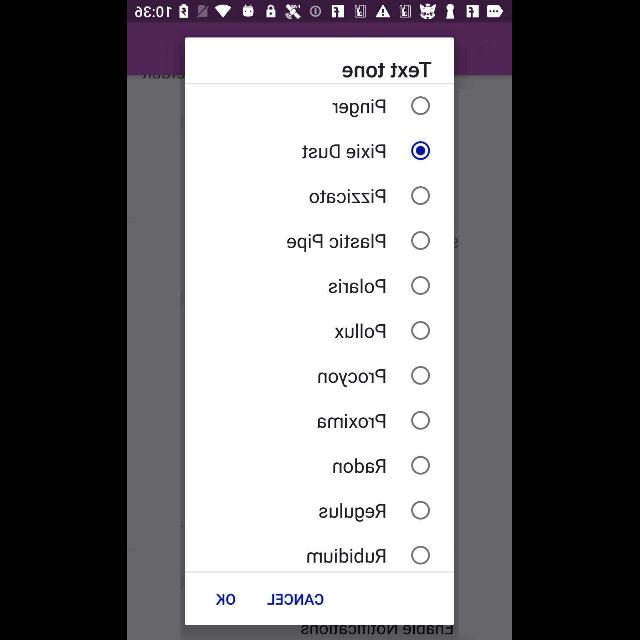checkbox: (412, 276, 432, 296), (412, 500, 431, 520), (412, 187, 432, 205), (412, 321, 432, 339), (412, 412, 432, 430), (412, 231, 431, 249), (412, 366, 431, 384), (413, 97, 431, 115), (413, 142, 431, 160), (412, 456, 430, 474), (412, 546, 430, 564)
panel: (186, 38, 454, 624)
text: (288, 234, 386, 252), (343, 62, 432, 78), (320, 503, 386, 522), (308, 548, 386, 564), (319, 369, 386, 387), (303, 144, 387, 158), (310, 189, 386, 203), (334, 99, 386, 118), (318, 414, 386, 428), (329, 278, 386, 294), (334, 458, 386, 474), (336, 324, 386, 338), (268, 594, 324, 604), (217, 594, 236, 604)
textbutton: (268, 594, 324, 604), (217, 594, 236, 604)
uppertaskbar: (128, 1, 512, 23)
